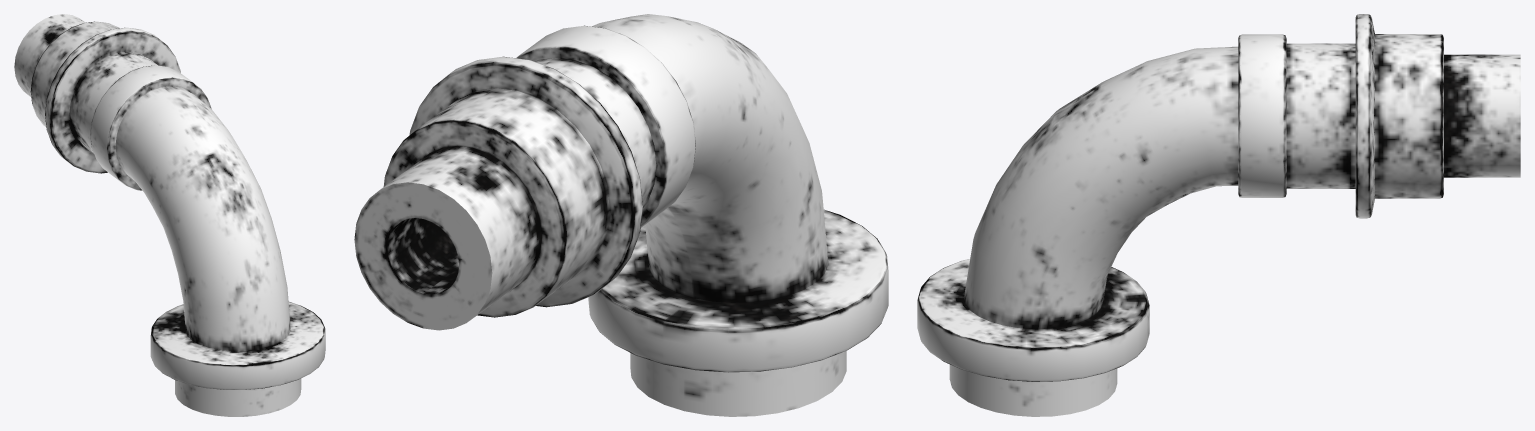
Rendered from SM_pipe_corner_03.fbx.
3 views of the same model, side by side, from view 1: azimuth 30°, elevation 25°; view 2: azimuth 150°, elevation 25°; view 3: azimuth 270°, elevation 25° (orthographic). The views are drawn at different scales.
Visible parts, largest first — view 1: SM_pipe_corner_03; view 2: SM_pipe_corner_03; view 3: SM_pipe_corner_03.
Part boxes in pixels (x1,y1,x2,y2): SM_pipe_corner_03: (14, 14, 325, 416); SM_pipe_corner_03: (354, 14, 888, 416); SM_pipe_corner_03: (917, 14, 1520, 416).
Bounding box in the file's own units: 31.33 × 81.28 × 53.5.
1 material, 1 textured.
